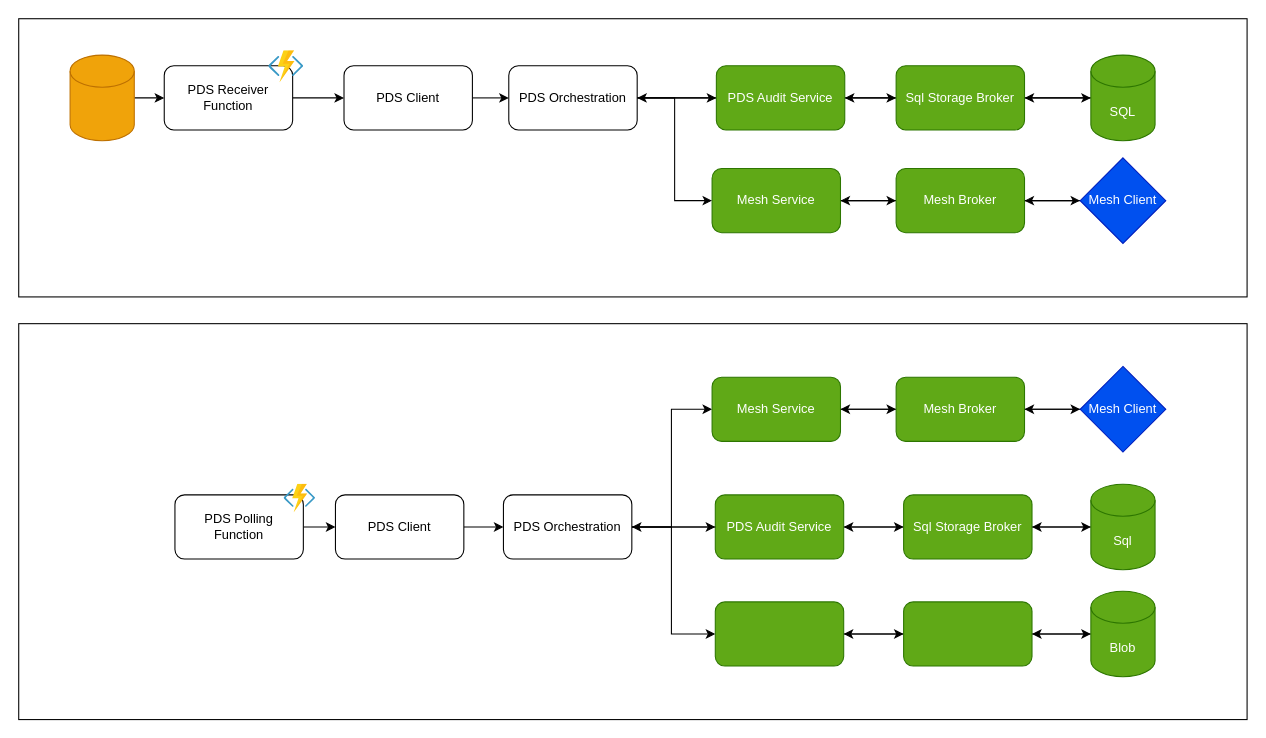
The diagram is 1266 pixels wide and 738 high, and some of its shapes have lost their labels. The shapes that lost their labels are listed below. From the top down, each one's centre as x and y in pixels, then its label:
At (x=101, y=97): "Blob Storage".
At (x=779, y=633): "Document Service".
At (x=967, y=633): "Blob Storage Broker".
